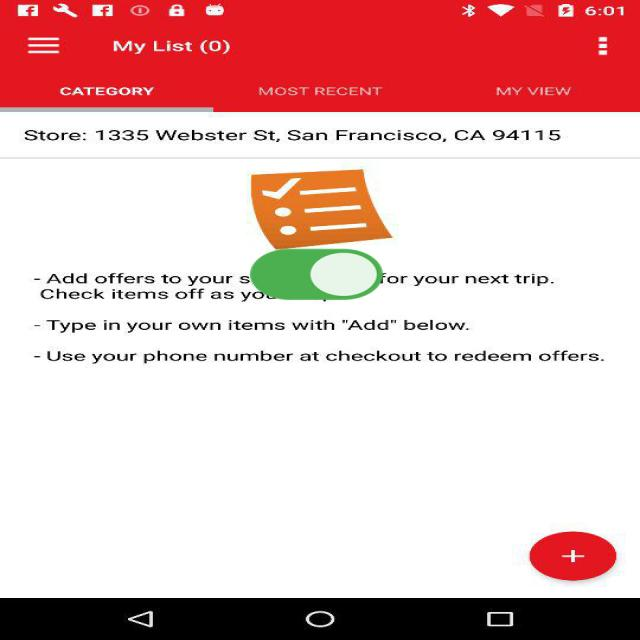social proof: (244, 230, 389, 324)
